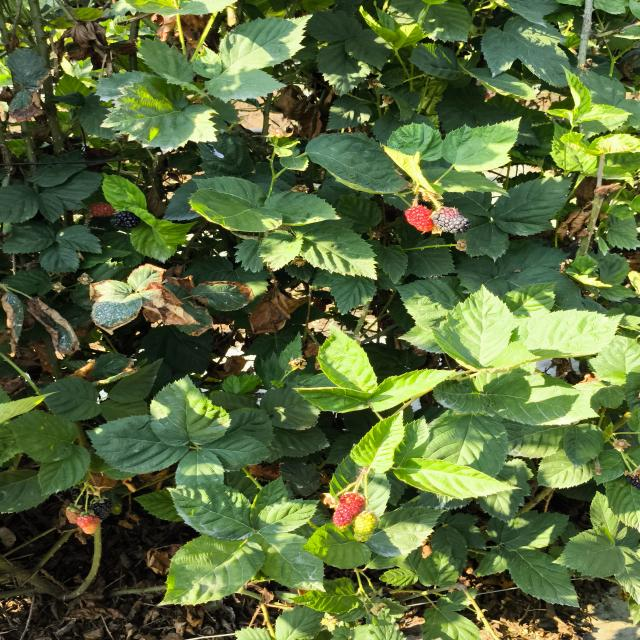maduro: (112, 210, 141, 229), (90, 498, 111, 521)
marron: (432, 207, 470, 233)
naranja: (332, 492, 365, 528), (405, 205, 433, 231), (76, 514, 100, 534), (90, 202, 115, 217), (65, 507, 79, 523)
verde: (353, 511, 377, 542)
